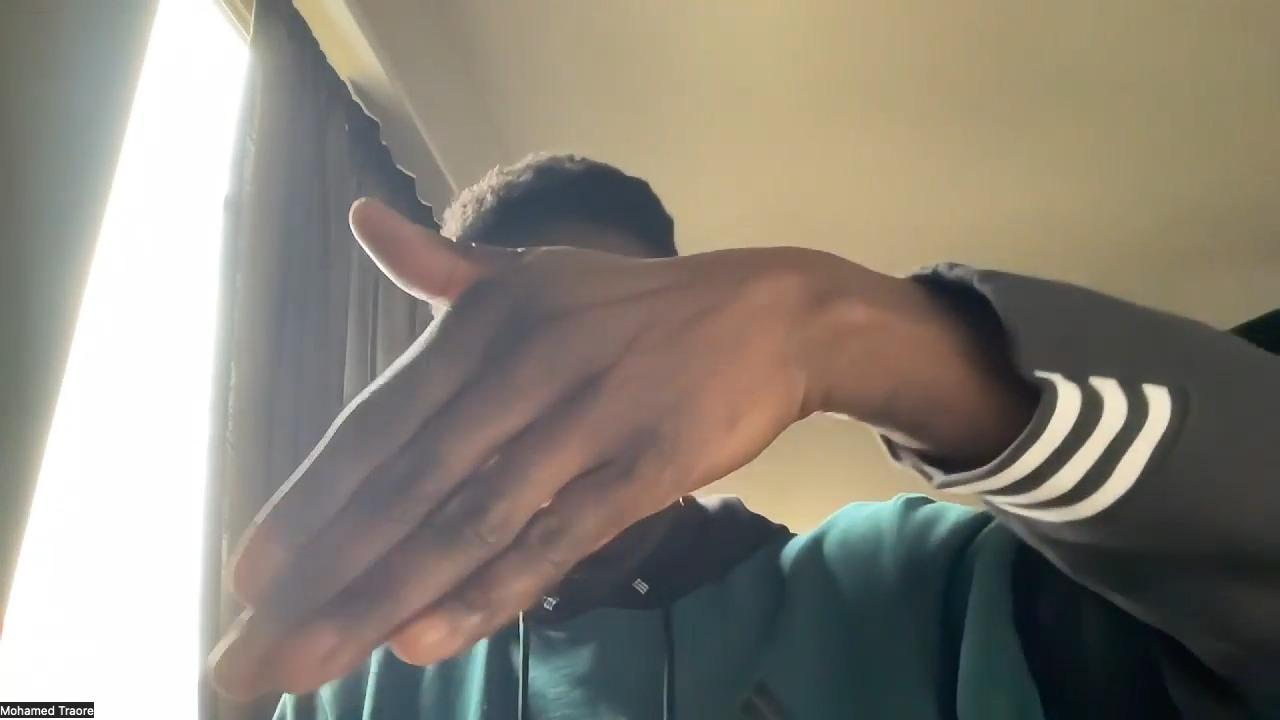Paper: (203, 197, 807, 709)
